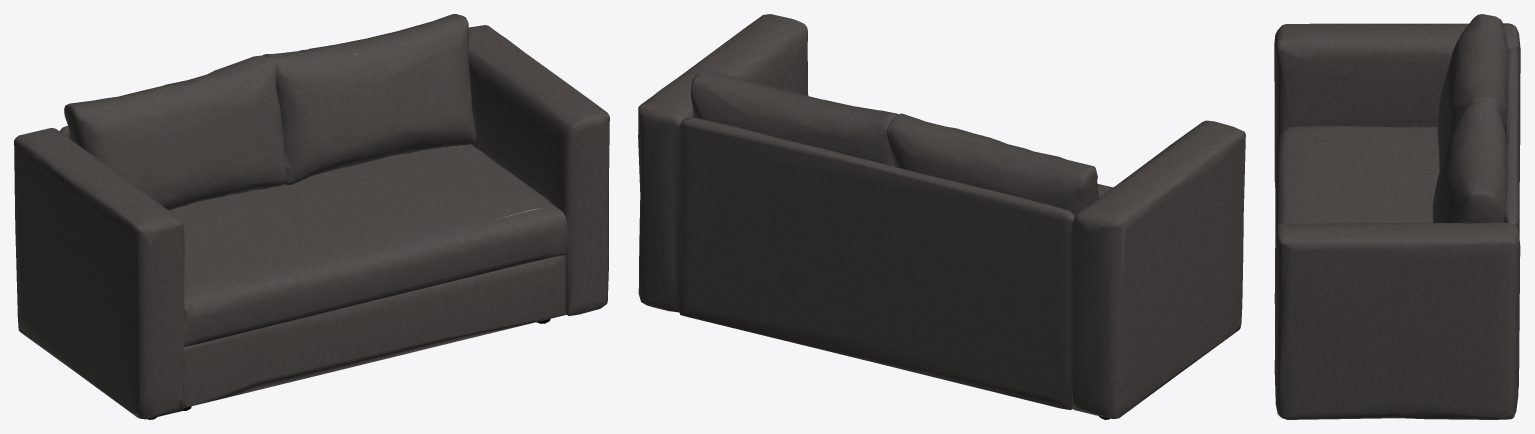
3 views of the same model, side by side, from view 1: azimuth 30°, elevation 25°; view 2: azimuth 150°, elevation 25°; view 3: azimuth 270°, elevation 25° (orthographic). The views are drawn at different scales.
Parts seen in each view (by area): view 1: 70582542-SKÃƒâ€“NABÃƒâ€žCK001; view 2: 70582542-SKÃƒâ€“NABÃƒâ€žCK001; view 3: 70582542-SKÃƒâ€“NABÃƒâ€žCK001.
Boxes of the visible parts, box(x1,y1,x2,y2) form: 70582542-SKÃƒâ€“NABÃƒâ€žCK001: box(14, 14, 609, 419); 70582542-SKÃƒâ€“NABÃƒâ€žCK001: box(638, 14, 1245, 419); 70582542-SKÃƒâ€“NABÃƒâ€žCK001: box(1274, 14, 1520, 419).
Size of the model in its own units: 1.61 by 0.7748 by 0.7614.
1 material, 1 textured.
